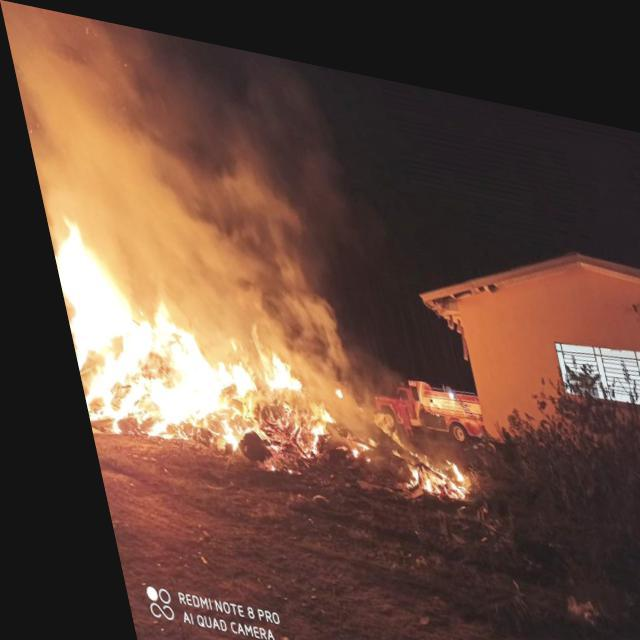Fire: (39, 214, 254, 451), (386, 438, 452, 494), (286, 391, 324, 453), (246, 339, 290, 386)
